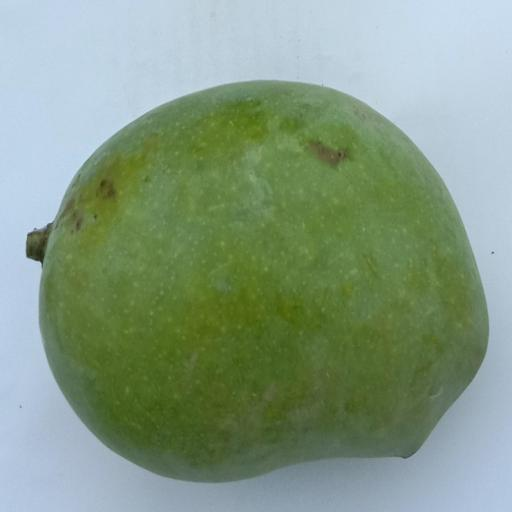mango-unripe: (16, 68, 498, 496)
